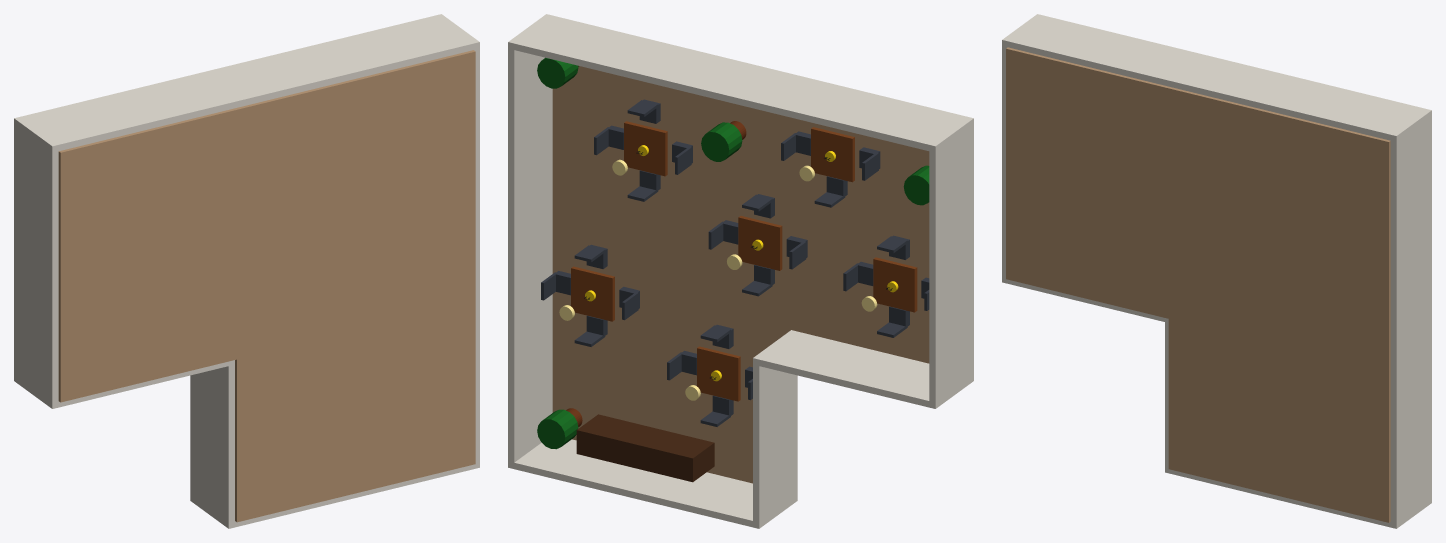
File: mapa2.obj
3 views of the same model, side by side, from view 1: azimuth 30°, elevation 25°; view 2: azimuth 150°, elevation 25°; view 3: azimuth 330°, elevation 25° (orthographic). The views are drawn at different scales.
Parts seen in each view (by area): view 1: Floor_Bottom, Floor_Top, Wall_Bottom, Wall_Left, Wall_Inner_V, Wall_Right, Wall_Top, Wall_Inner_H; view 2: Floor_Bottom, Floor_Top, Wall_Bottom, Wall_Right, Wall_Left, Wall_Top, Wall_Inner_H, Wall_Inner_V, Robot_Base_Counter, Table_3, Table_4, Table_2 (+7 smaller); view 3: Floor_Bottom, Floor_Top, Wall_Bottom, Wall_Right, Wall_Top, Wall_Left, Wall_Inner_H, Wall_Inner_V.
Part boxes in pixels (box(x1,y1,x2,y2)): Floor_Bottom: box(58, 50, 475, 402); Floor_Top: box(235, 301, 475, 522); Wall_Bottom: box(14, 14, 479, 152); Wall_Left: box(14, 123, 58, 408); Wall_Inner_V: box(190, 361, 234, 522); Wall_Right: box(437, 14, 479, 468); Wall_Top: box(190, 461, 479, 528); Wall_Inner_H: box(58, 360, 234, 407); Floor_Bottom: box(552, 66, 929, 363); Floor_Top: box(552, 272, 790, 483); Wall_Bottom: box(508, 14, 973, 152); Wall_Right: box(508, 14, 552, 468); Wall_Left: box(929, 122, 973, 408); Wall_Top: box(508, 439, 797, 528); Wall_Inner_H: box(753, 330, 929, 407); Wall_Inner_V: box(753, 330, 797, 522); Robot_Base_Counter: box(576, 414, 714, 482); Table_3: box(873, 257, 917, 312); Table_4: box(738, 216, 782, 270); Table_2: box(697, 346, 740, 401); Floor_Bottom: box(1006, 47, 1390, 372); Floor_Top: box(1168, 319, 1390, 522); Wall_Bottom: box(1002, 14, 1431, 141); Wall_Right: box(1390, 110, 1431, 528); Wall_Top: box(1165, 466, 1431, 528); Wall_Left: box(1002, 43, 1007, 283); Wall_Inner_H: box(1007, 279, 1168, 322); Wall_Inner_V: box(1165, 322, 1168, 467).
Bounding box in the file's own units: 1.24 × 1.18 × 0.202.
